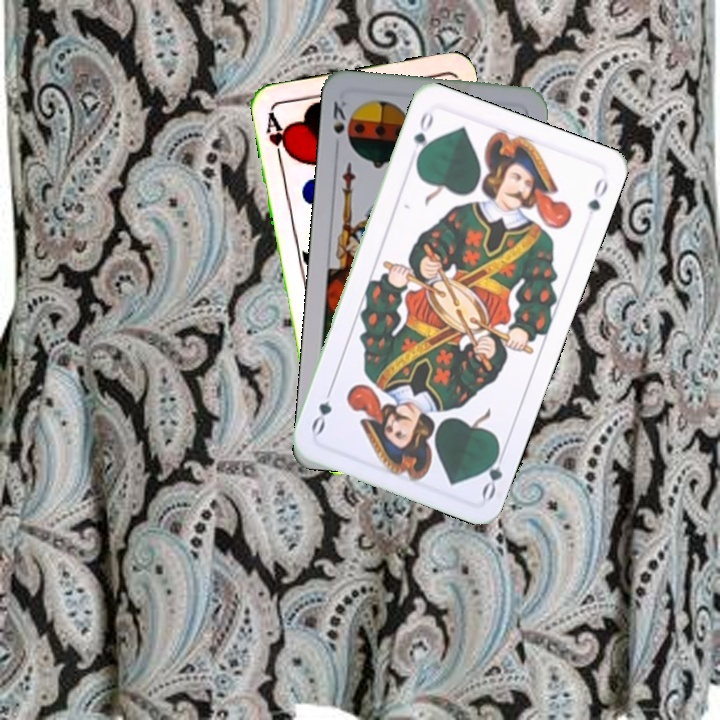GO: (477, 442, 509, 502), (409, 107, 436, 165)
HA: (261, 106, 293, 165)
SK: (329, 97, 349, 137)
